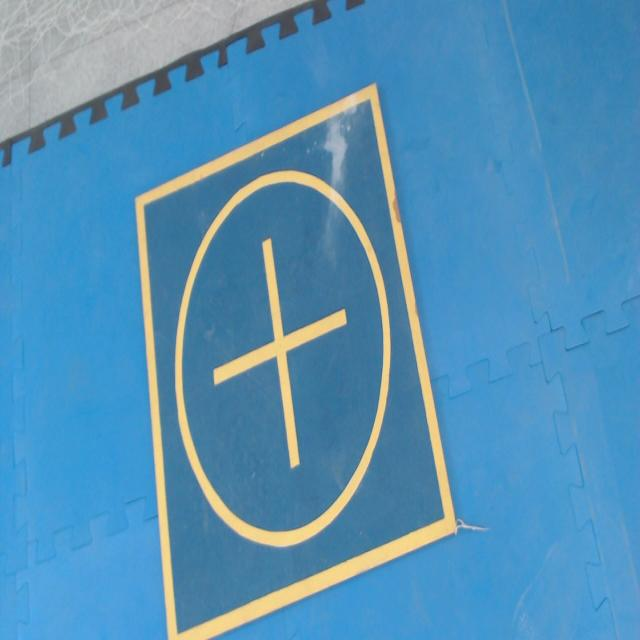base_pouso: (135, 79, 459, 639)
